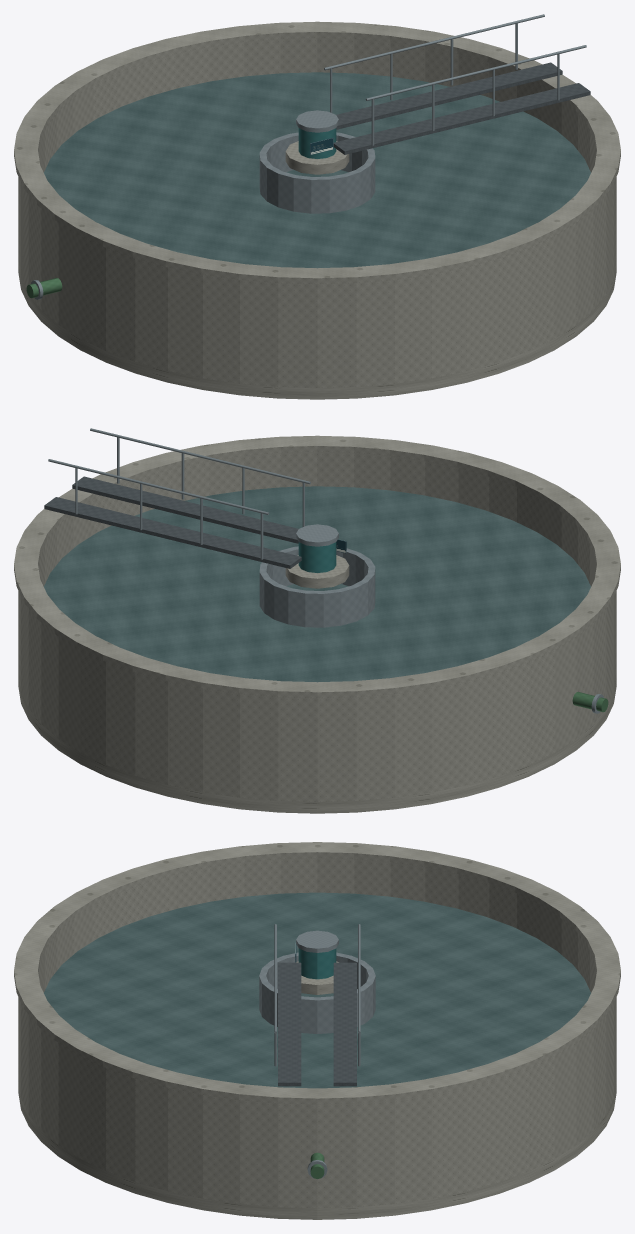
Rendered from PZ_CFW_02_Circular_Clarifier_12m.glb.
The picture shows the model from 3 angles, top to bottom: view 1: azimuth 30°, elevation 25°; view 2: azimuth 150°, elevation 25°; view 3: azimuth 270°, elevation 25°; orthographic projection.
Parts seen in each view (by area): view 1: CLARIFIER_ROUND_OpenTop_RingWall, CLARIFIER_ROUND_OPTIONAL_Static_ClarifiedWater, CLARIFIER_ROUND_RimCoping, CLARIFIER_ROUND_RoundFoundation, CLARIFIER_ROUND_CentralFeedwell_Hollow, CLARIFIER_ROUND_RadialBridgeDeck_South, CLARIFIER_ROUND_RadialBridgeDeck_North, CLARIFIER_ROUND_DrivePlinth, CLARIFIER_ROUND_DriveTopCover, CLARIFIER_ROUND_BridgeDriveMotor, CLARIFIER_ROUND_WalkGuardTop_South, CLARIFIER_ROUND_WalkGuardTop_North; view 2: CLARIFIER_ROUND_OpenTop_RingWall, CLARIFIER_ROUND_OPTIONAL_Static_ClarifiedWater, CLARIFIER_ROUND_RimCoping, CLARIFIER_ROUND_RoundFoundation, CLARIFIER_ROUND_CentralFeedwell_Hollow, CLARIFIER_ROUND_RadialBridgeDeck_North, CLARIFIER_ROUND_RadialBridgeDeck_South, CLARIFIER_ROUND_DrivePlinth, CLARIFIER_ROUND_BridgeDriveMotor, CLARIFIER_ROUND_DriveTopCover, CLARIFIER_ROUND_WalkGuardTop_North, CLARIFIER_ROUND_WalkGuardTop_South; view 3: CLARIFIER_ROUND_OpenTop_RingWall, CLARIFIER_ROUND_OPTIONAL_Static_ClarifiedWater, CLARIFIER_ROUND_RimCoping, CLARIFIER_ROUND_RoundFoundation, CLARIFIER_ROUND_CentralFeedwell_Hollow, CLARIFIER_ROUND_RadialBridgeDeck_North, CLARIFIER_ROUND_RadialBridgeDeck_South, CLARIFIER_ROUND_BridgeDriveMotor, CLARIFIER_ROUND_DriveTopCover, CLARIFIER_ROUND_DrivePlinth.
Part boxes in pixels (x1,y1,x2,y2): CLARIFIER_ROUND_OpenTop_RingWall: (18, 37, 616, 387); CLARIFIER_ROUND_OPTIONAL_Static_ClarifiedWater: (44, 72, 590, 268); CLARIFIER_ROUND_RimCoping: (14, 21, 620, 283); CLARIFIER_ROUND_RoundFoundation: (18, 262, 616, 399); CLARIFIER_ROUND_CentralFeedwell_Hollow: (259, 132, 375, 213); CLARIFIER_ROUND_RadialBridgeDeck_South: (333, 83, 590, 154); CLARIFIER_ROUND_RadialBridgeDeck_North: (336, 62, 562, 129); CLARIFIER_ROUND_DrivePlinth: (285, 141, 349, 174); CLARIFIER_ROUND_DriveTopCover: (296, 110, 338, 132); CLARIFIER_ROUND_BridgeDriveMotor: (298, 128, 336, 158); CLARIFIER_ROUND_WalkGuardTop_South: (365, 45, 586, 100); CLARIFIER_ROUND_WalkGuardTop_North: (324, 14, 544, 70); CLARIFIER_ROUND_OpenTop_RingWall: (18, 451, 616, 801); CLARIFIER_ROUND_OPTIONAL_Static_ClarifiedWater: (44, 486, 590, 682); CLARIFIER_ROUND_RimCoping: (14, 435, 620, 697); CLARIFIER_ROUND_RoundFoundation: (18, 676, 616, 813); CLARIFIER_ROUND_CentralFeedwell_Hollow: (259, 546, 375, 627); CLARIFIER_ROUND_RadialBridgeDeck_North: (44, 497, 301, 568); CLARIFIER_ROUND_RadialBridgeDeck_South: (72, 476, 298, 543); CLARIFIER_ROUND_DrivePlinth: (285, 555, 349, 588); CLARIFIER_ROUND_BridgeDriveMotor: (298, 542, 336, 572); CLARIFIER_ROUND_DriveTopCover: (296, 524, 338, 546); CLARIFIER_ROUND_WalkGuardTop_North: (48, 459, 269, 514); CLARIFIER_ROUND_WalkGuardTop_South: (90, 428, 310, 484); CLARIFIER_ROUND_OpenTop_RingWall: (18, 858, 616, 1208); CLARIFIER_ROUND_OPTIONAL_Static_ClarifiedWater: (44, 892, 590, 1088); CLARIFIER_ROUND_RimCoping: (14, 842, 620, 1104); CLARIFIER_ROUND_RoundFoundation: (18, 1082, 616, 1219); CLARIFIER_ROUND_CentralFeedwell_Hollow: (259, 952, 375, 1033); CLARIFIER_ROUND_RadialBridgeDeck_North: (333, 962, 356, 1086); CLARIFIER_ROUND_RadialBridgeDeck_South: (278, 962, 301, 1086); CLARIFIER_ROUND_BridgeDriveMotor: (298, 948, 336, 979); CLARIFIER_ROUND_DriveTopCover: (296, 930, 338, 952); CLARIFIER_ROUND_DrivePlinth: (296, 961, 338, 994).
Size of the model in its own units: 13.32 by 4.06 by 12.18.
8 materials, 8 textured.
